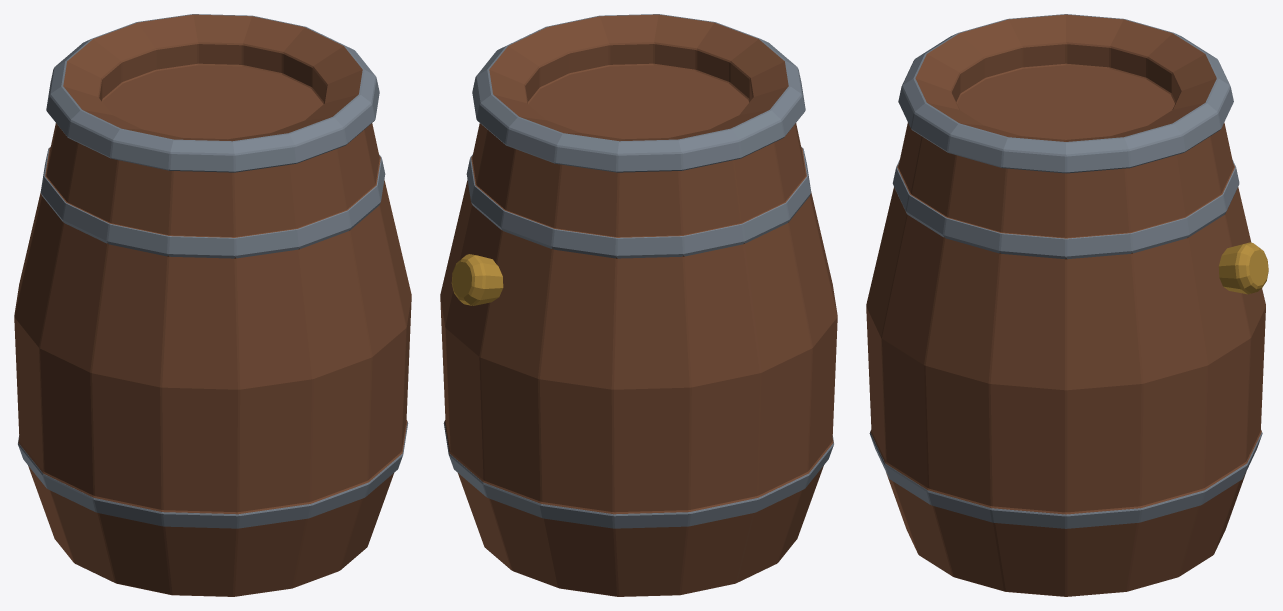
Rendered from barrel.fbx.
3 views of the same model, side by side, from view 1: azimuth 30°, elevation 25°; view 2: azimuth 150°, elevation 25°; view 3: azimuth 270°, elevation 25° (orthographic).
Parts seen in each view (by area): view 1: Barrel; view 2: Barrel, Cork; view 3: Barrel, Cork.
Part boxes in pixels (x1,y1,x2,y2): Barrel: [14, 14, 411, 596]; Barrel: [440, 14, 837, 596]; Cork: [451, 254, 503, 305]; Barrel: [866, 14, 1265, 596]; Cork: [1218, 242, 1268, 294].
Bounding box in the file's own units: 265 × 331 × 267.
